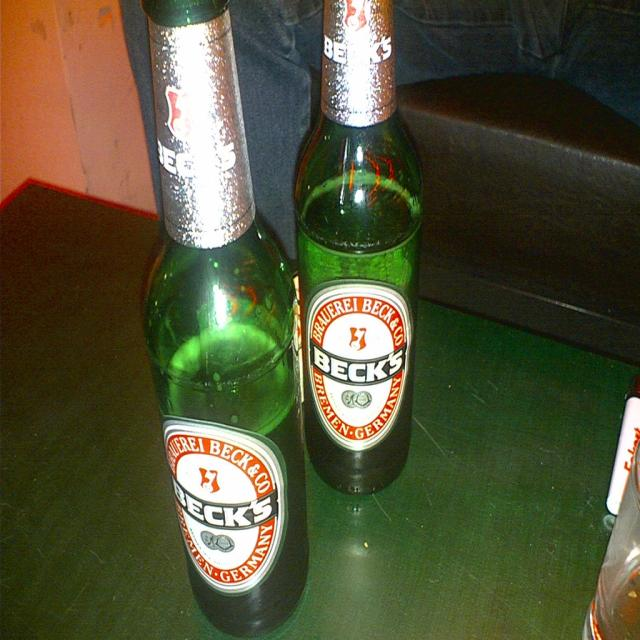becks: (161, 422, 286, 593), (306, 285, 412, 453)
